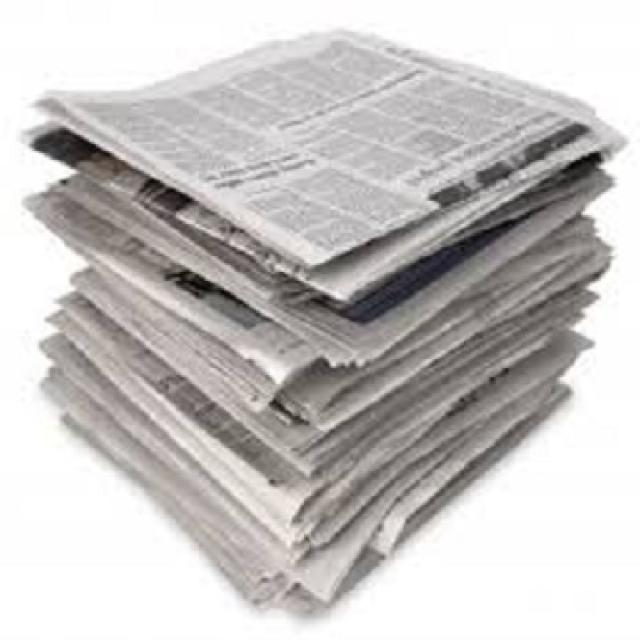Papel: (71, 222, 610, 478), (53, 28, 596, 274), (37, 334, 480, 604), (27, 172, 354, 386), (276, 174, 610, 364), (39, 372, 295, 608), (57, 320, 318, 544), (322, 119, 628, 300), (53, 293, 313, 492), (20, 121, 292, 276)
